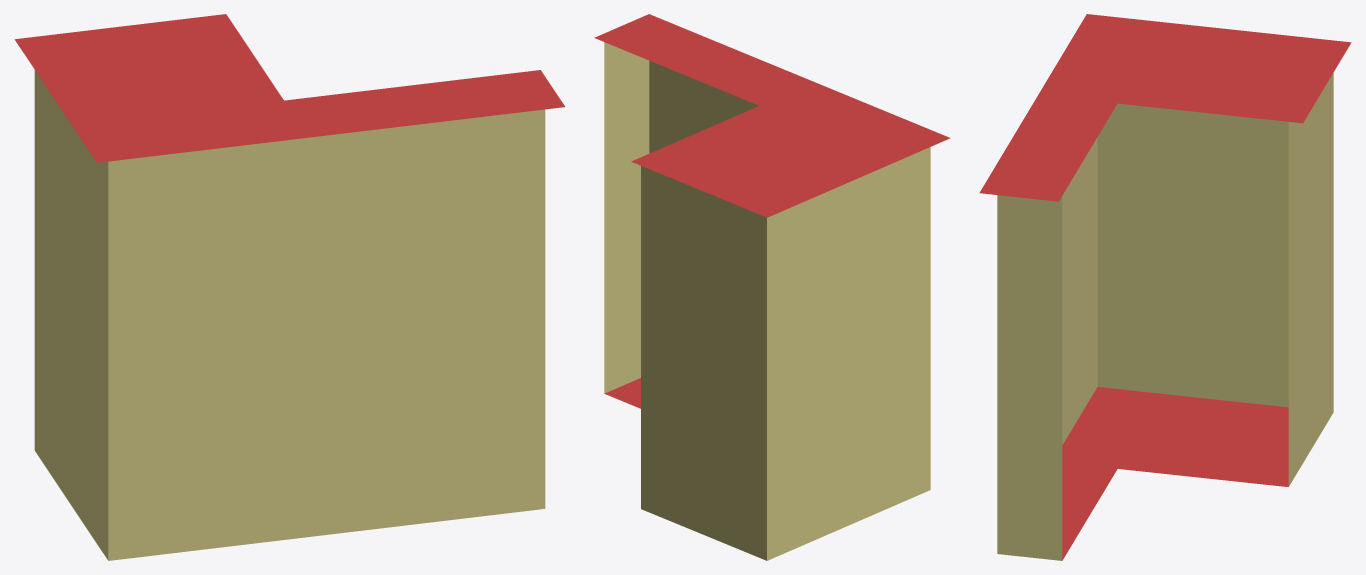
3 renders of one model, left to right at view 1: azimuth 30°, elevation 25°; view 2: azimuth 150°, elevation 25°; view 3: azimuth 270°, elevation 25°, orthographic. The views are drawn at different scales.
Bounding box in the file's own units: 7.52 × 6.3 × 6.83.
